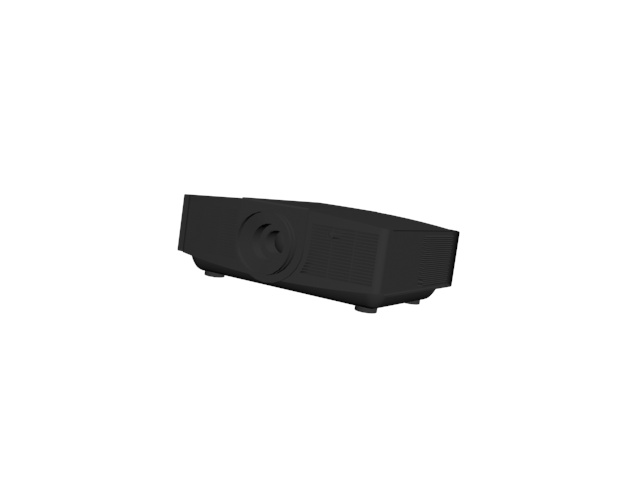projector: (177, 193, 464, 320)
